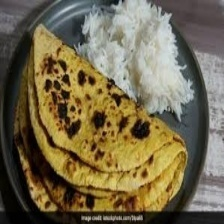rice: (74, 1, 196, 118)
